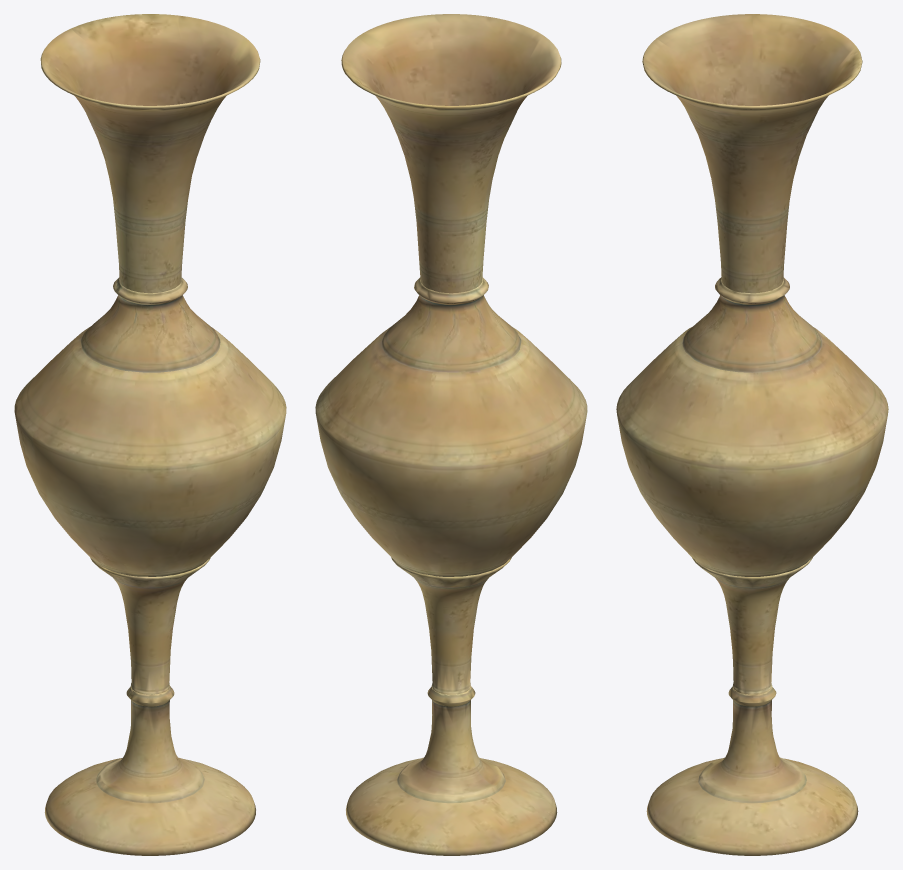
Rendered from brass_vase_01.glb.
The picture shows the model from 3 angles, left to right: view 1: azimuth 30°, elevation 25°; view 2: azimuth 150°, elevation 25°; view 3: azimuth 270°, elevation 25°; orthographic projection.
Visible parts, largest first — view 1: brass_vase_01; view 2: brass_vase_01; view 3: brass_vase_01.
Part boxes in pixels (x1=…): brass_vase_01: x1=14, y1=14, x2=286, y2=855; brass_vase_01: x1=315, y1=14, x2=587, y2=855; brass_vase_01: x1=616, y1=14, x2=888, y2=855.
Size of the model in its own units: 0.2272 by 0.6925 by 0.2272.
1 material, 1 textured.
